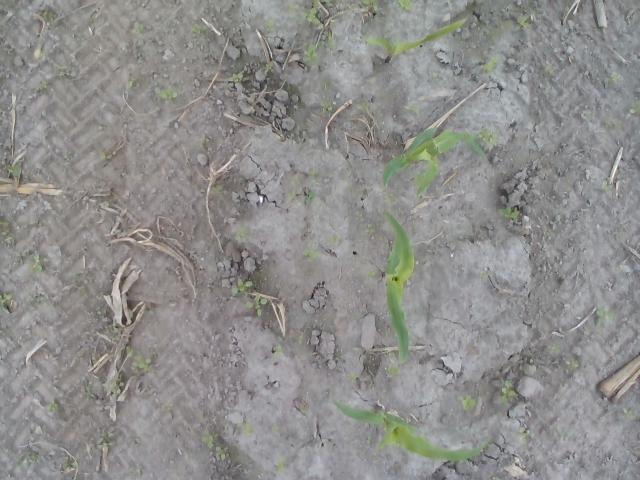Maize: (334, 398, 491, 460), (382, 128, 489, 199), (368, 15, 469, 68), (380, 211, 415, 362)
Weeds: (287, 0, 322, 27), (126, 346, 162, 370), (202, 432, 228, 460), (590, 302, 616, 328), (498, 377, 518, 410), (246, 294, 270, 316), (544, 214, 562, 240), (302, 40, 320, 65), (0, 214, 16, 240), (480, 126, 498, 146), (19, 447, 40, 464), (498, 206, 520, 222), (359, 0, 382, 15), (231, 280, 254, 295), (456, 393, 476, 409), (96, 432, 114, 449), (320, 30, 336, 49), (158, 87, 178, 102), (57, 64, 77, 78), (482, 55, 496, 73), (30, 255, 44, 272), (273, 456, 287, 473), (515, 15, 529, 32), (0, 291, 11, 312), (394, 0, 414, 11), (6, 164, 21, 178), (234, 228, 250, 241), (518, 426, 529, 444), (132, 20, 146, 34), (308, 170, 320, 186), (240, 422, 256, 434), (322, 100, 338, 112), (546, 340, 560, 353), (303, 248, 321, 258), (563, 356, 578, 368), (192, 23, 208, 34), (326, 234, 342, 245), (264, 15, 274, 32), (297, 401, 309, 415), (272, 344, 284, 357), (354, 210, 366, 222), (42, 10, 54, 22), (606, 72, 624, 80), (406, 104, 424, 112), (347, 372, 358, 385), (48, 399, 59, 412), (386, 366, 401, 375), (604, 118, 616, 129), (307, 190, 318, 202), (229, 72, 242, 82), (210, 184, 226, 192), (386, 192, 397, 203), (358, 100, 368, 112), (290, 176, 302, 186), (112, 384, 122, 395), (546, 65, 558, 74), (110, 323, 118, 336), (38, 80, 48, 90), (15, 252, 25, 262), (623, 406, 633, 416), (364, 223, 375, 232), (600, 180, 609, 191), (629, 103, 640, 112), (101, 200, 113, 208), (127, 79, 136, 89), (368, 271, 377, 280), (431, 71, 440, 80), (367, 432, 372, 448), (296, 334, 304, 344), (584, 110, 592, 120), (264, 62, 273, 70), (271, 424, 279, 433), (387, 351, 398, 357), (288, 192, 296, 200), (479, 270, 486, 278), (63, 154, 72, 160), (62, 462, 70, 468)
